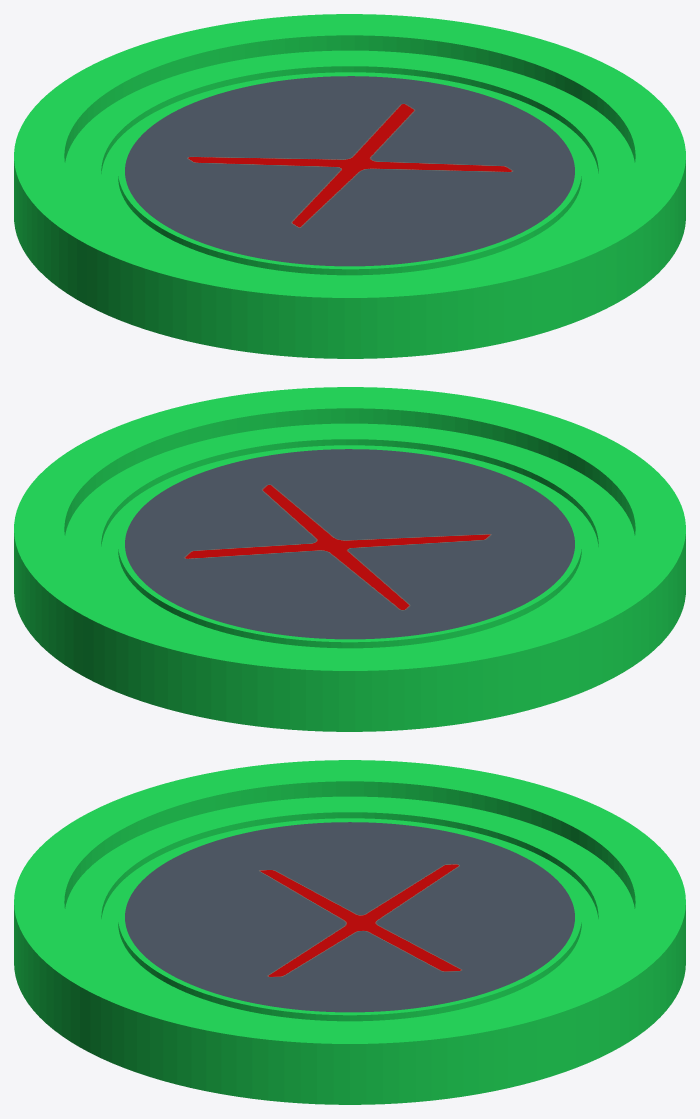
File: 3dcoinOrigin.gltf
3 views of the same model, one above another, from view 1: azimuth 30°, elevation 25°; view 2: azimuth 150°, elevation 25°; view 3: azimuth 270°, elevation 25° (orthographic).
Visible parts, largest first — view 1: TopFace; view 2: TopFace; view 3: TopFace.
Part boxes in pixels (x1,y1,x2,y2): TopFace: (14,14,685,358); TopFace: (14,387,685,731); TopFace: (14,760,685,1104).
Size of the model in its own units: 2 by 0.2 by 2.
Materials: 3 (2 with a texture image).
